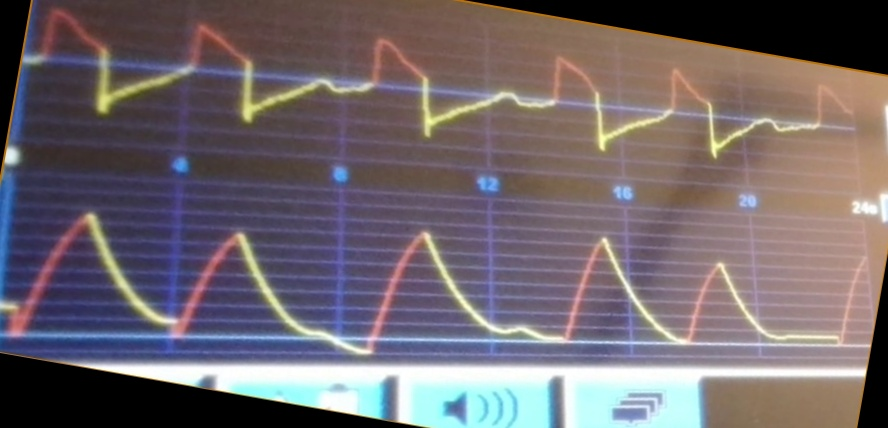Ineffective_effort Flow: (33, 6, 850, 158)
Ineffective_effort Volume: (1, 207, 867, 357)
